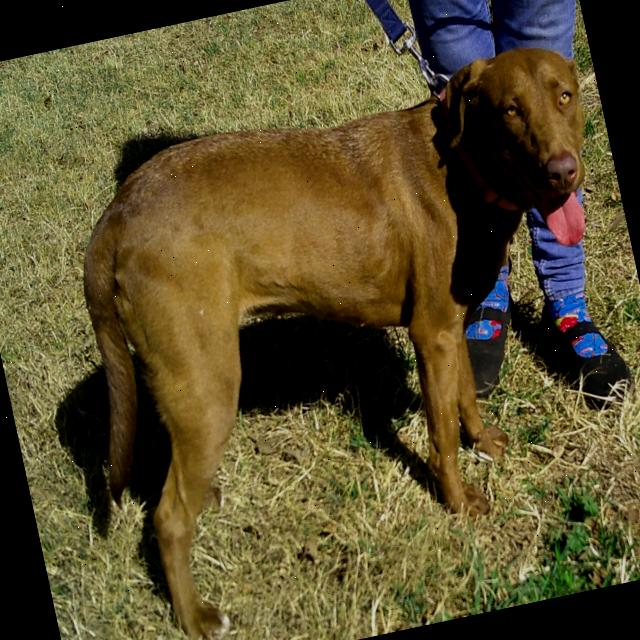labrador_retriever_dog: (422, 32, 618, 273)
